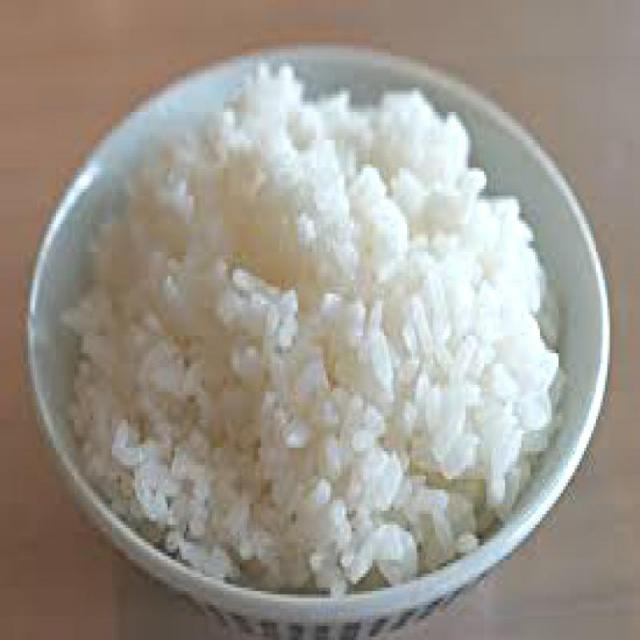rice: (68, 59, 564, 593)
